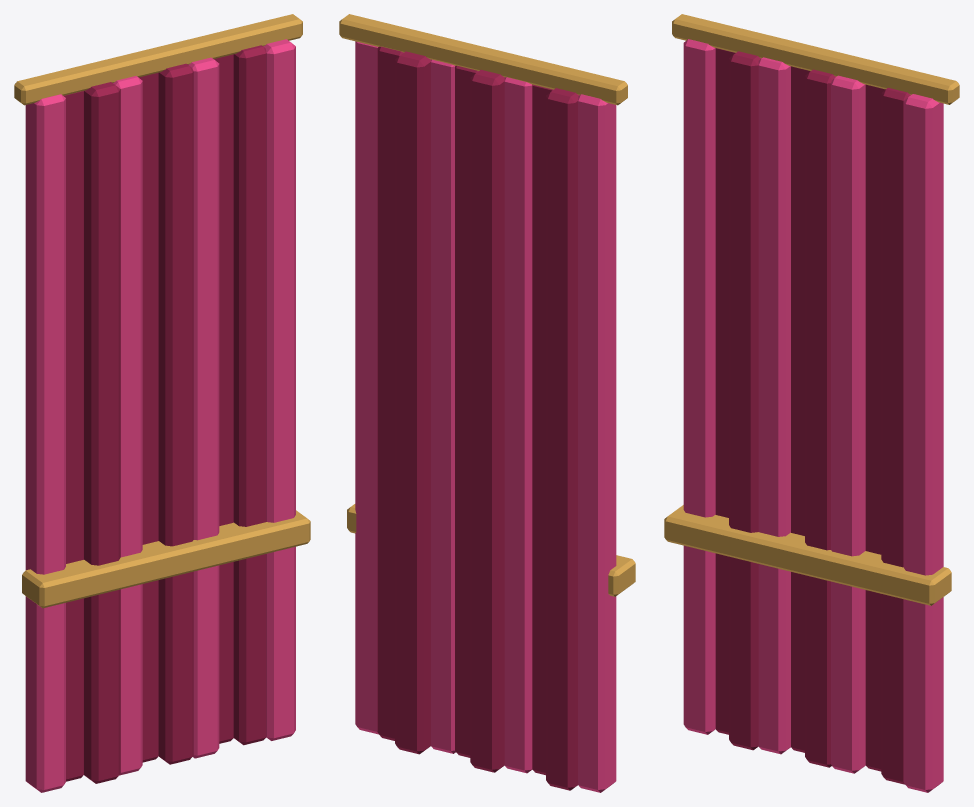
Rendered from stage_curtain.glb.
3 renders of one model, left to right at view 1: azimuth 30°, elevation 25°; view 2: azimuth 150°, elevation 25°; view 3: azimuth 330°, elevation 25°, orthographic.
Parts seen in each view (by area): view 1: Dobra.001, Dobra, Abraçadeira; view 2: Dobra.001, Dobra, Abraçadeira; view 3: Dobra, Dobra.001, Abraçadeira.
Boxes of the visible parts, box(x1,y1,x2,y2) form: Dobra.001: box(64, 45, 266, 783); Dobra: box(25, 39, 295, 792); Abraçadeira: box(14, 14, 310, 608); Dobra.001: box(377, 46, 578, 790); Dobra: box(355, 41, 616, 792); Abraçadeira: box(339, 14, 635, 596); Dobra: box(683, 39, 943, 792); Dobra.001: box(715, 48, 910, 784); Abraçadeira: box(664, 14, 959, 605).
Bounding box in the file's own units: 1.08 × 2.6 × 0.215.
